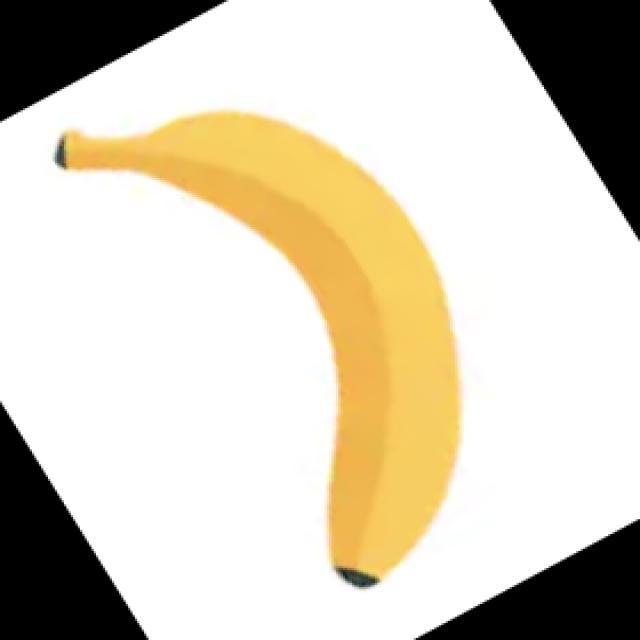Banana: (53, 107, 462, 588)
